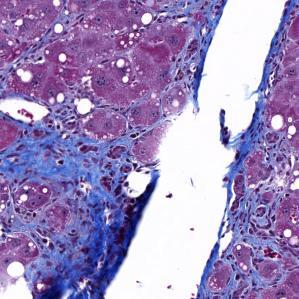fibrosis: (17, 124, 145, 201), (29, 220, 131, 299)
